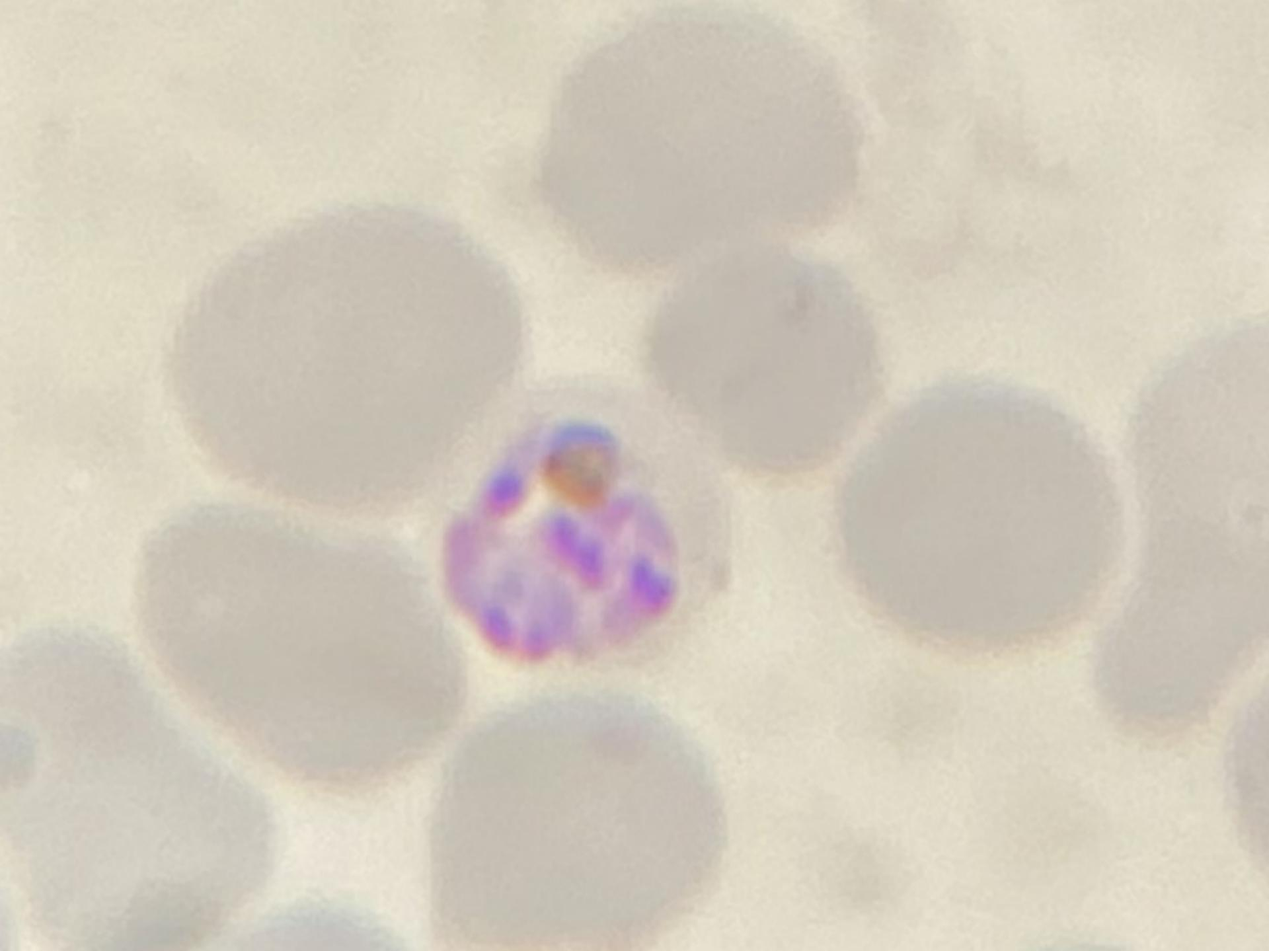Infected: (425, 382, 739, 670)
Uninfected: (167, 203, 524, 525), (132, 507, 474, 791), (0, 618, 289, 951), (546, 10, 867, 277), (844, 375, 1128, 659), (427, 688, 728, 951), (1099, 311, 1269, 728), (643, 245, 887, 474)
